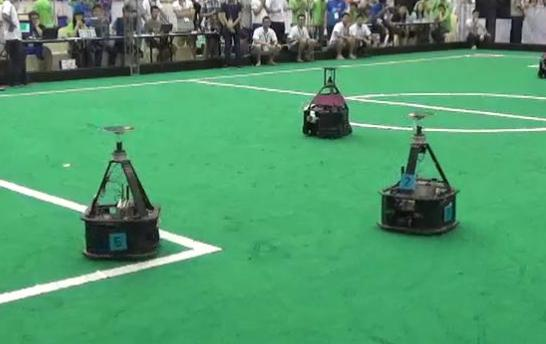robot: (76, 123, 165, 260), (378, 108, 461, 237), (301, 65, 354, 140)
